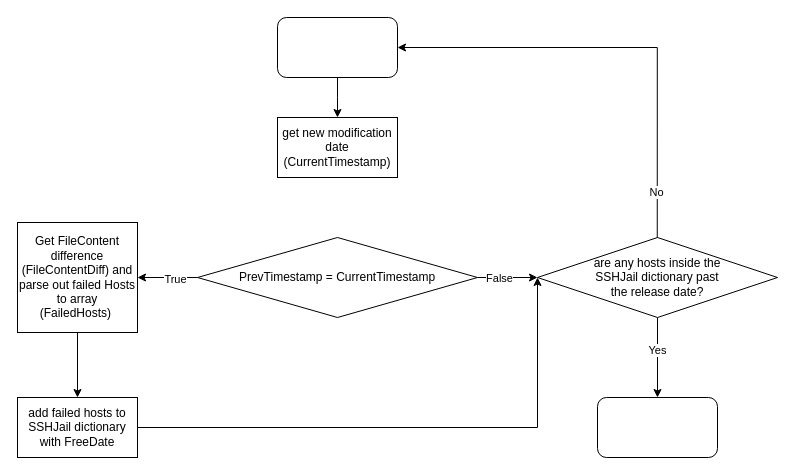
The diagram is 795 pixels wide and 475 high, and some of its shapes have lost their labels. The shapes that lost their labels are listed below. From the top down, each one's centre as x and y in pixels, then its label:
At (337,47): "get modification date (PrevTimestamp) and file content of ssh logfile".
At (657,427): "Unban Hosts".
